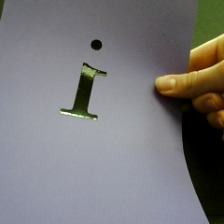violet1: (52, 34, 117, 125)
